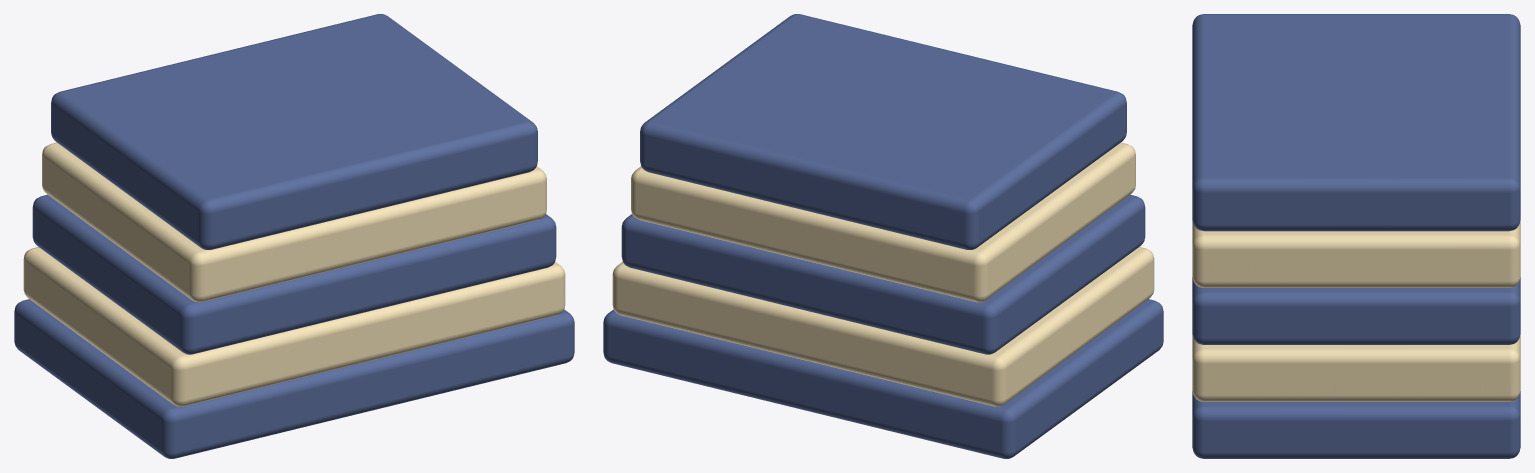
File: cloth-stack.glb
3 renders of one model, left to right at view 1: azimuth 30°, elevation 25°; view 2: azimuth 150°, elevation 25°; view 3: azimuth 270°, elevation 25°, orthographic. The views are drawn at different scales.
Visible parts, largest first — view 1: folded-cloth-stack; view 2: folded-cloth-stack; view 3: folded-cloth-stack.
Boxes of the visible parts, x1,y1,x2,y2 form: folded-cloth-stack: [14, 14, 574, 458]; folded-cloth-stack: [603, 14, 1163, 458]; folded-cloth-stack: [1192, 14, 1520, 458].
Size of the model in its own units: 0.56 by 0.325 by 0.37.
